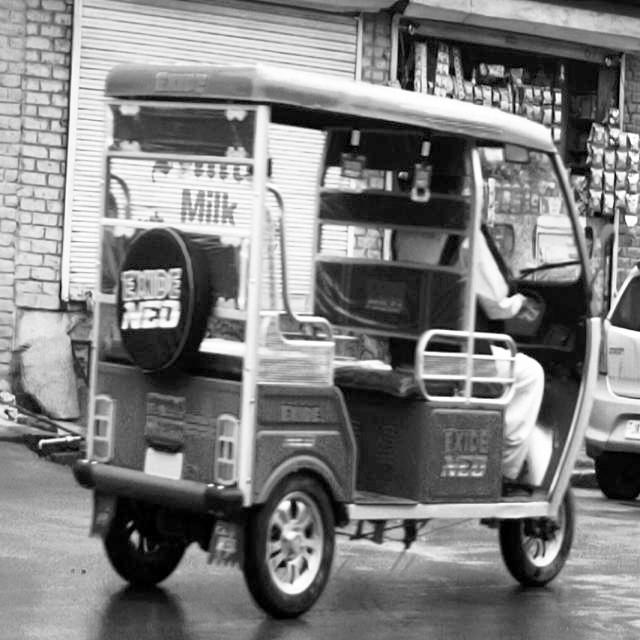Toto: (89, 60, 587, 609)
